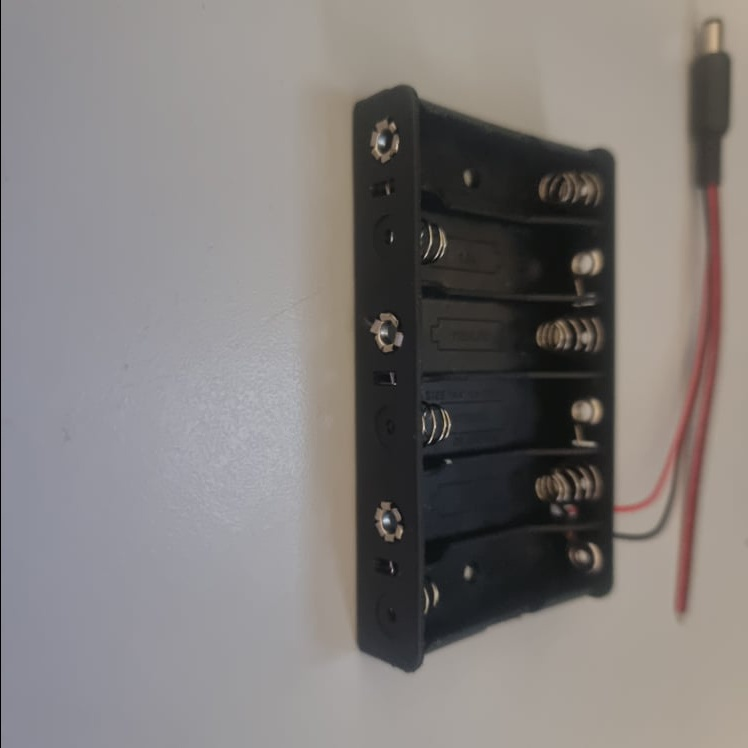BATTERY BOX: (352, 85, 618, 675)
